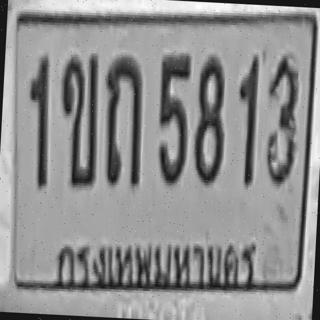A02: (54, 50, 100, 187)
A22: (99, 52, 145, 186)
N01: (23, 52, 52, 188), (233, 55, 260, 186)
N03: (263, 54, 300, 186)
N05: (154, 52, 191, 186)
N08: (192, 54, 228, 186)
P04: (48, 221, 264, 302)
